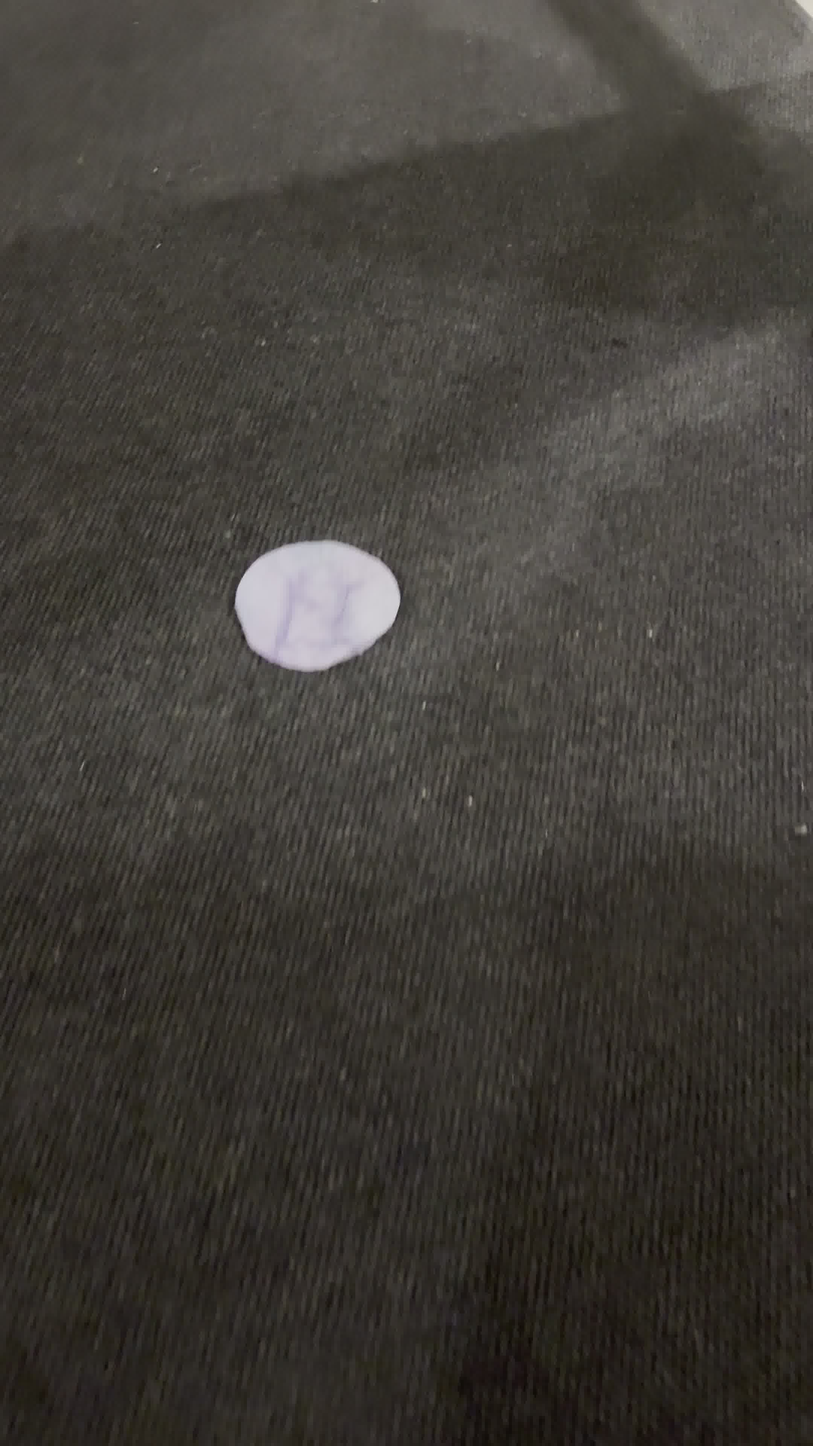Target: (235, 540, 400, 672)
